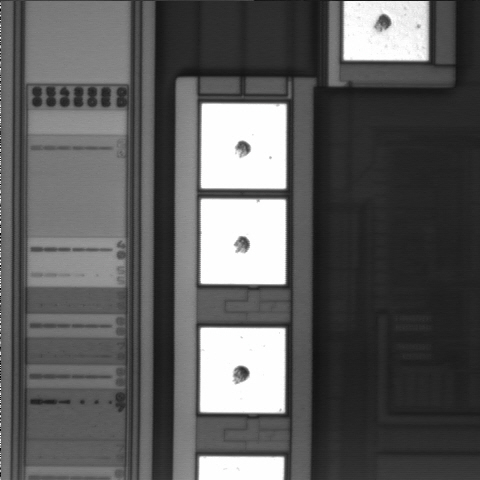pad: (201, 104, 286, 189), (201, 199, 286, 284), (200, 328, 285, 413)
